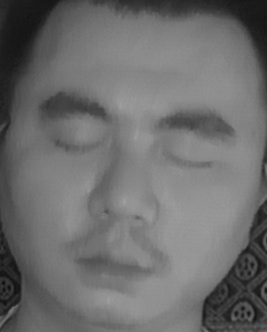blink: (48, 127, 104, 164), (166, 141, 217, 181)
mouth: (66, 236, 158, 296)
